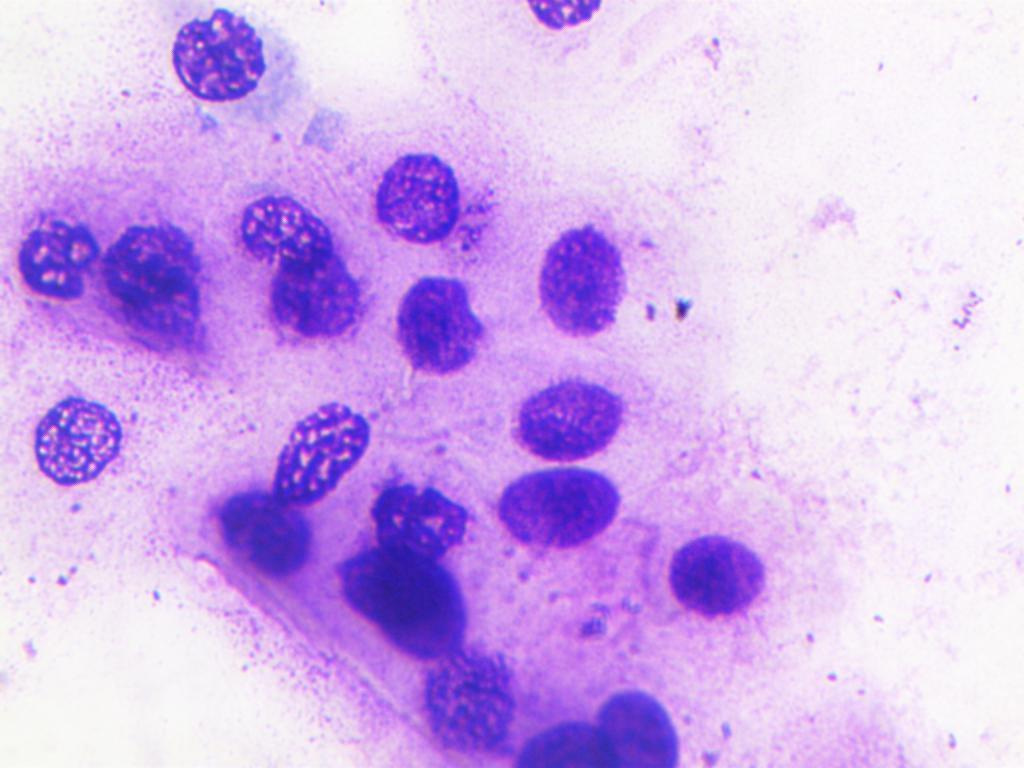epithelial: (11, 368, 198, 493), (162, 2, 329, 139), (521, 196, 663, 350), (92, 210, 215, 352), (326, 545, 475, 659), (471, 456, 642, 547), (484, 367, 637, 463), (623, 517, 762, 619), (371, 131, 463, 272), (392, 266, 501, 383), (253, 399, 374, 490), (187, 488, 308, 579), (415, 655, 518, 755), (3, 205, 99, 311), (257, 249, 363, 340), (599, 656, 685, 768), (230, 185, 344, 268), (350, 476, 475, 549), (500, 700, 626, 768)
